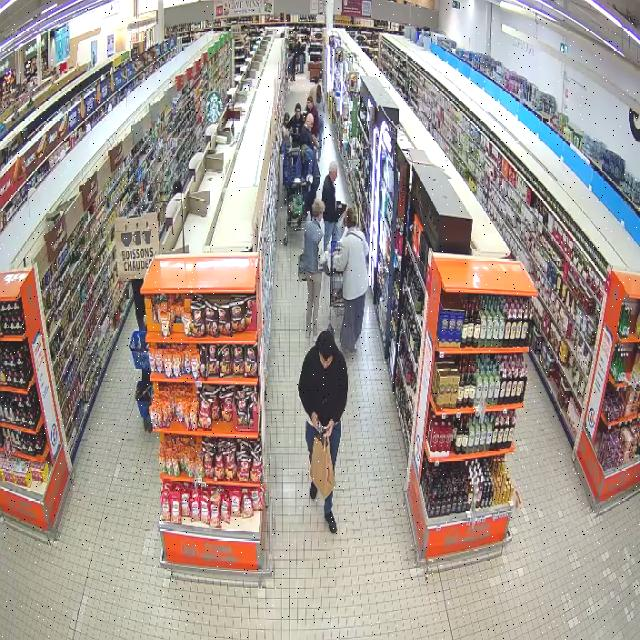article: (316, 416, 327, 437)
bags: (310, 434, 334, 497), (298, 253, 306, 280)
hands: (323, 419, 334, 437), (311, 412, 321, 427)
person: (298, 329, 347, 472), (333, 208, 368, 352), (298, 200, 326, 337), (323, 161, 338, 249)
